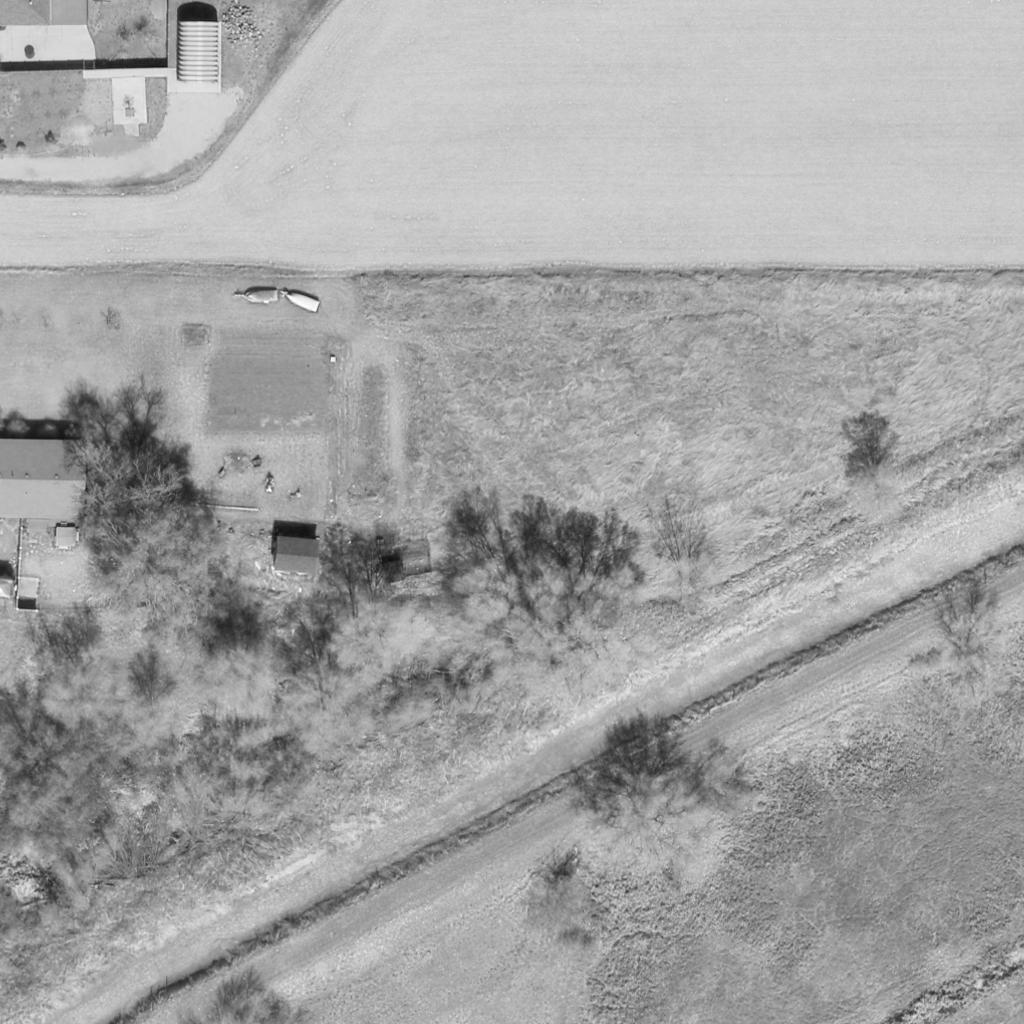vehicle: (282, 286, 322, 316), (245, 291, 279, 303)
